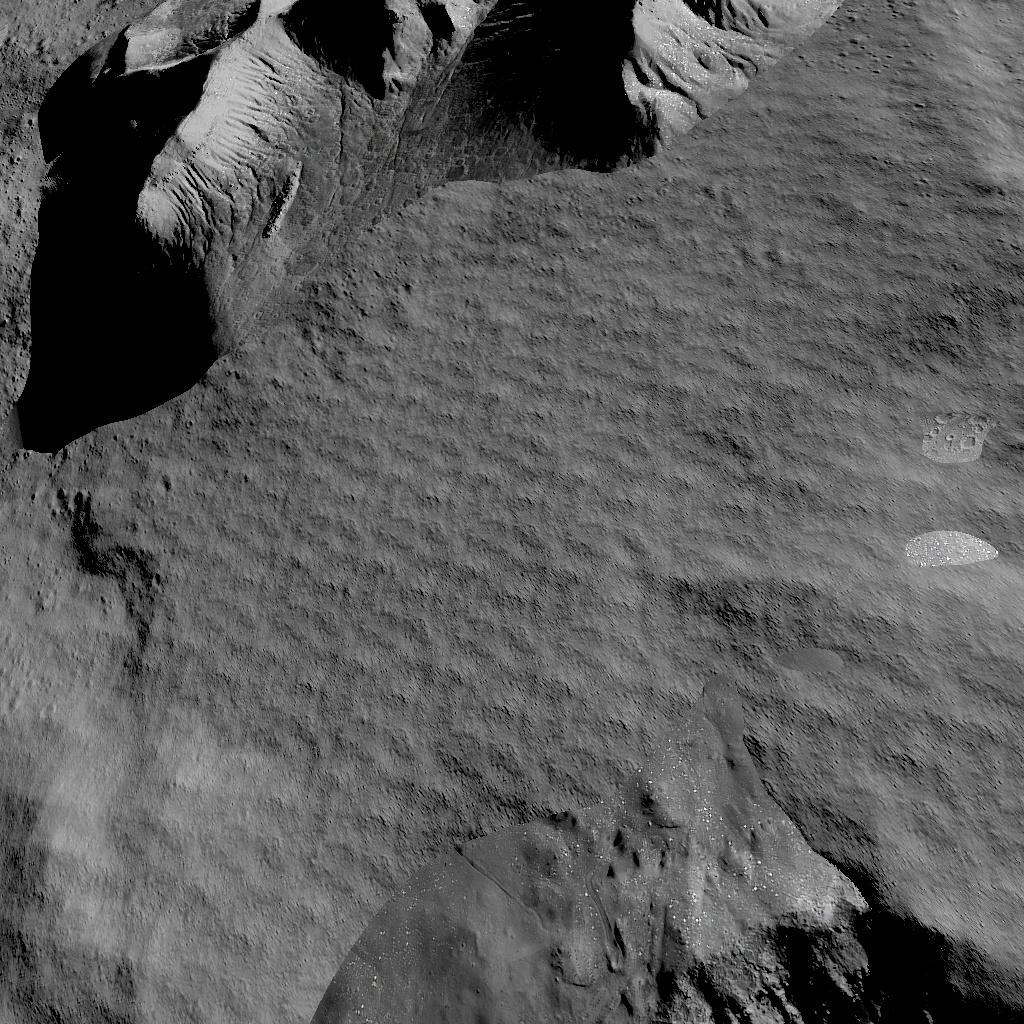Boulders: (11, 0, 840, 458)
Crater: (316, 822, 1024, 1024)
Plan surface: (0, 470, 1024, 810), (856, 0, 1024, 455), (0, 820, 306, 1024)
